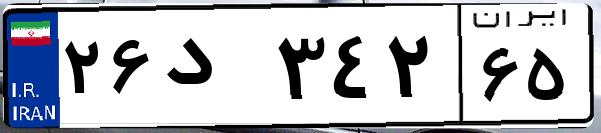2: (385, 28, 445, 110), (57, 26, 110, 100)
3: (270, 28, 330, 110)
4: (330, 28, 385, 110)
5: (525, 38, 570, 115)
6: (475, 38, 525, 113), (110, 28, 158, 98)
د: (158, 20, 270, 120)
